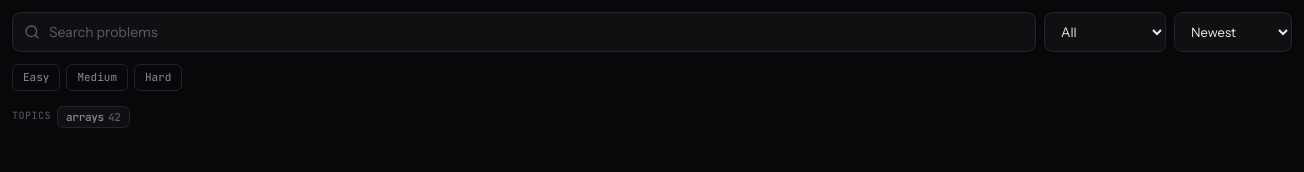
Test: FilterBar › shows a clear control only once filters are active
The width and height of the screenshot is (1304, 172).
expect the button "clear" is not shown: met
Click the button "Hard" at (158, 77), box [134,64,182,90]
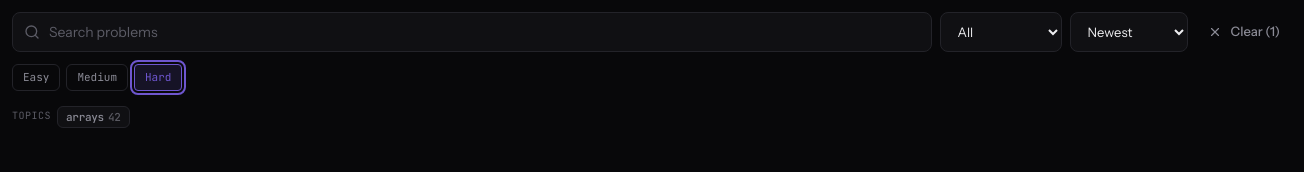
expect the button "Clear (1)" is shown: met, box [1196,16,1292,48]
